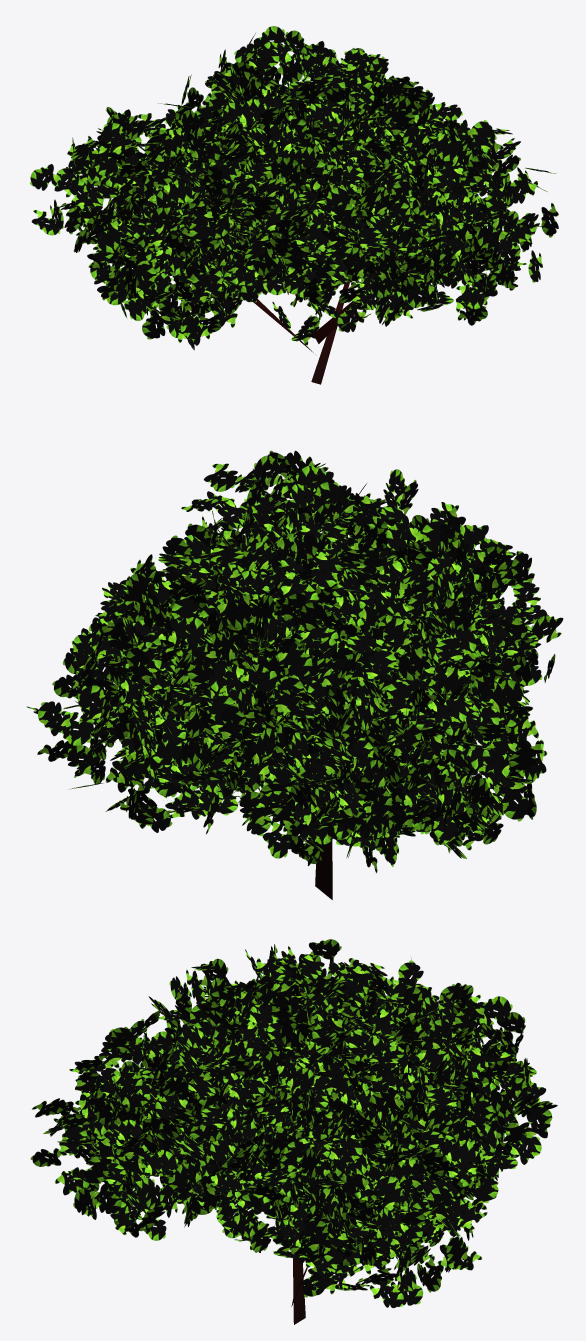
The model's file is understory_laurel_v02_LOD1.glb.
3 renders of one model, top to bottom at view 1: azimuth 30°, elevation 25°; view 2: azimuth 150°, elevation 25°; view 3: azimuth 270°, elevation 25°, orthographic. The views are drawn at different scales.
Visible parts, largest first — view 1: understory_laurel_v02_LOD1; view 2: understory_laurel_v02_LOD1; view 3: understory_laurel_v02_LOD1.
Part boxes in pixels (x1,y1,x2,y2): understory_laurel_v02_LOD1: (30, 26, 558, 384); understory_laurel_v02_LOD1: (26, 450, 563, 899); understory_laurel_v02_LOD1: (30, 939, 557, 1324).
Bounding box in the file's own units: 10.29 × 7.25 × 10.46.
2 materials, 2 textured.
